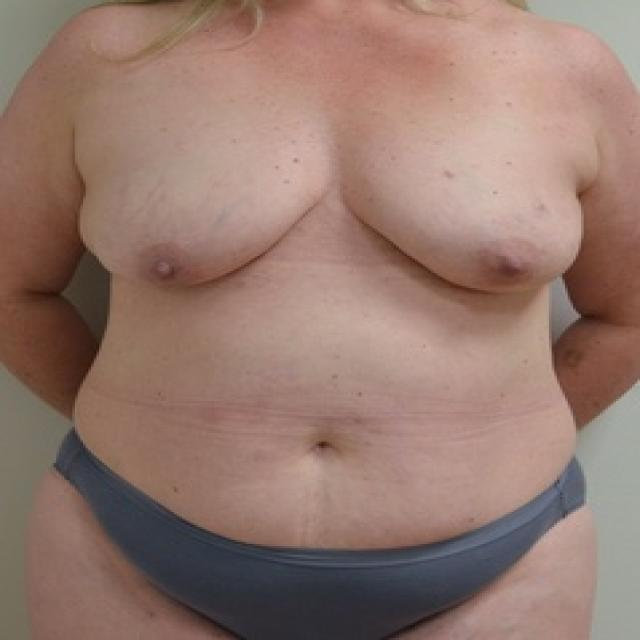Seno ileso: (71, 117, 332, 307), (336, 117, 590, 311)
